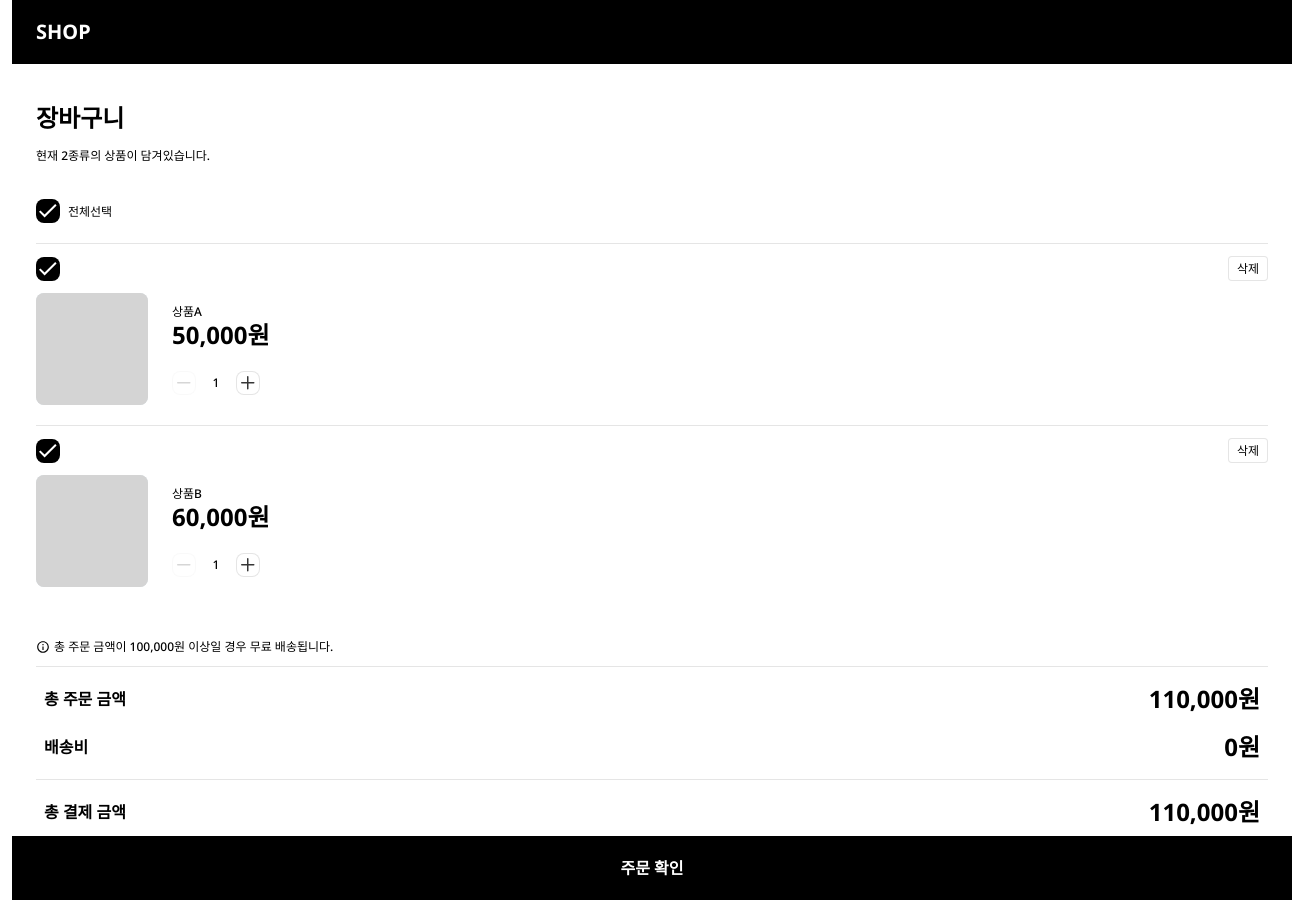
Test: 가격 동기화 › 선택 금액이 100,000원 이상이면 배송비 0원, 미만이면 3,000원이다
Expected: the text "상품A" is shown, [172, 302, 202, 320]
What coordinates should you click on to do the following:
click the 3rd checkbox
I would click on:
 (48, 450)
Its box is [36, 438, 60, 462].
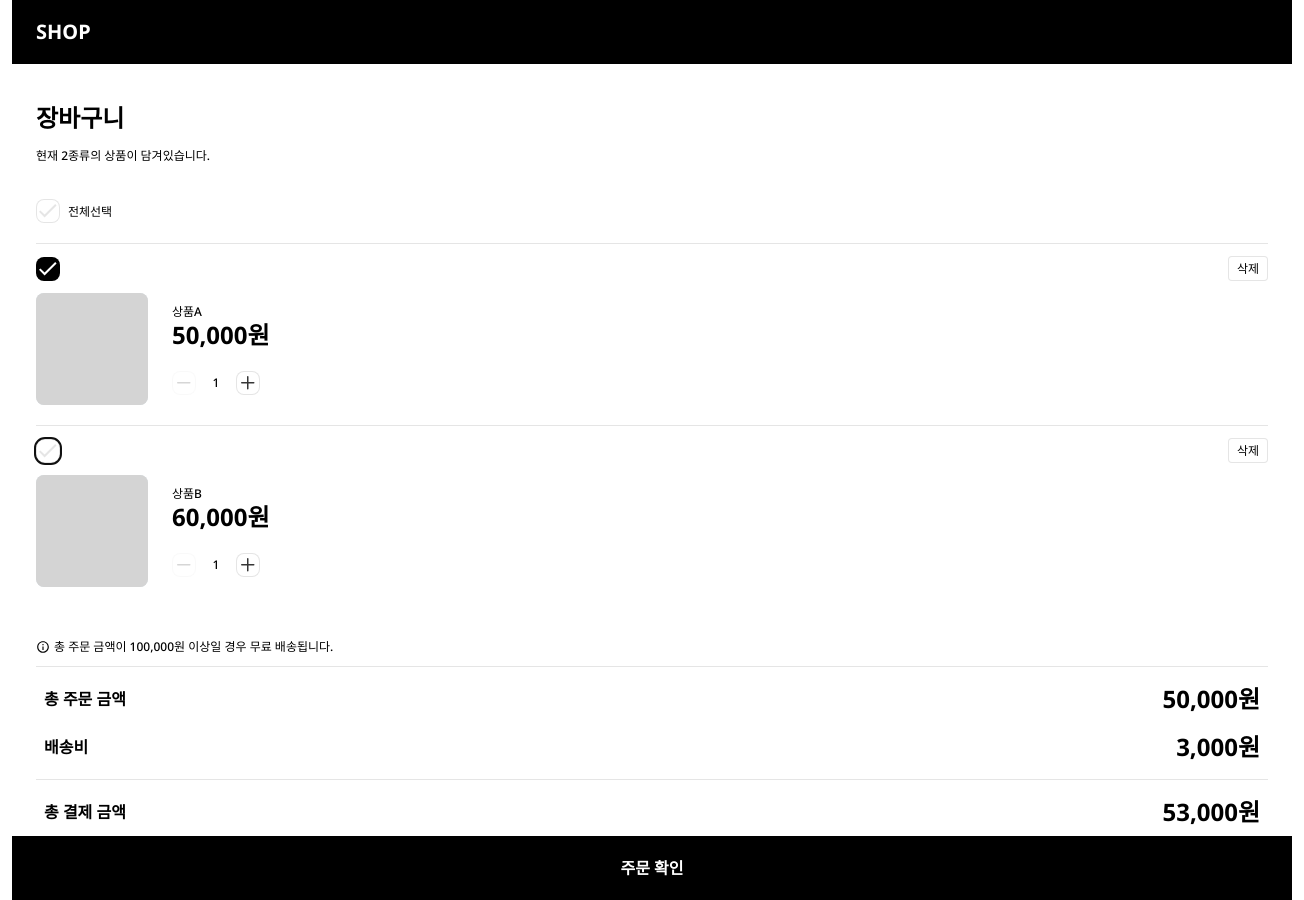
Result: the text "3,000원" is shown at [1176, 735, 1260, 759]
Result: the text "53,000원" is shown at [1162, 800, 1260, 824]
